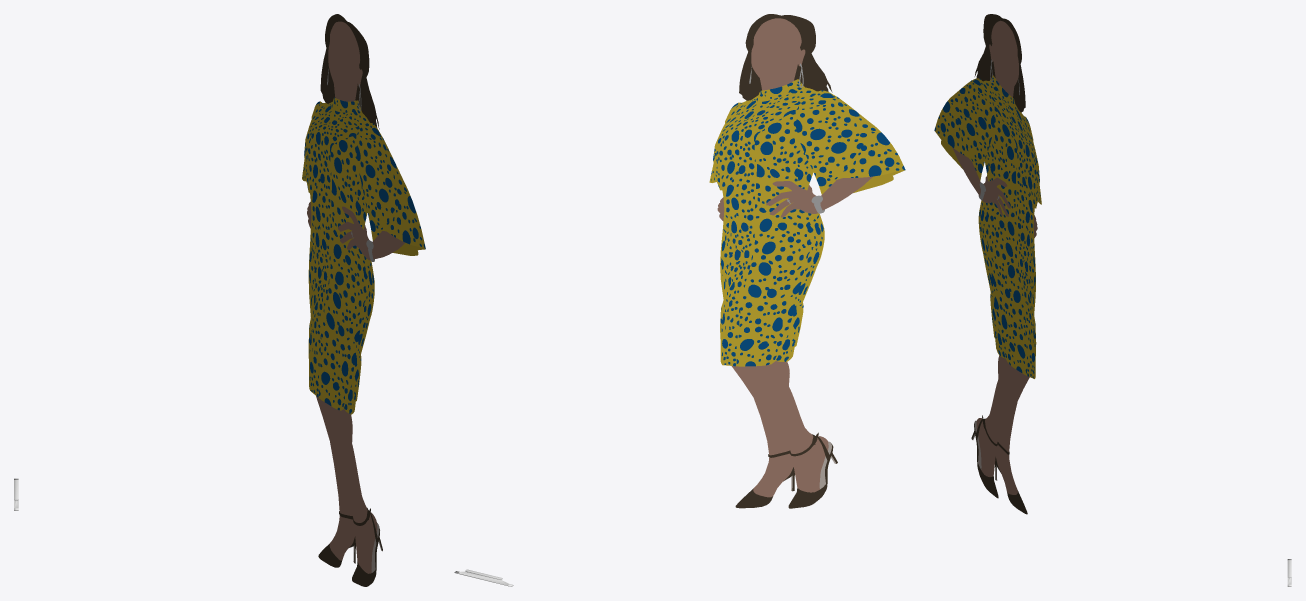
File: bennett.glb
3 views of the same model, side by side, from view 1: azimuth 90°, elevation 25°; view 2: azimuth 150°, elevation 25°; view 3: azimuth 270°, elevation 25° (orthographic). The views are drawn at different scales.
Visible parts, largest first — view 1: Geom3D (×4); view 2: Geom3D (×4); view 3: Geom3D (×4).
Boxes of the visible parts, x1,y1,x2,y2 form: Geom3D (×4): (302, 14, 425, 586); Geom3D (×4): (709, 14, 905, 508); Geom3D (×4): (934, 14, 1041, 514).
Bounding box in the file's own units: 0.9376 × 1.65 × 1.1.
